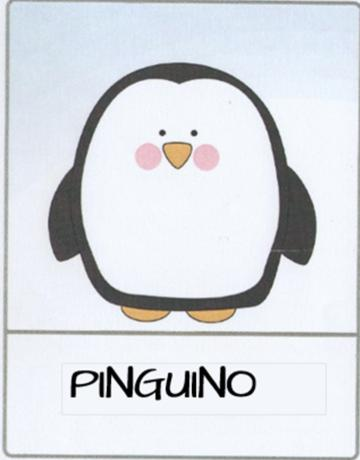pinguino: (2, 1, 359, 459)
